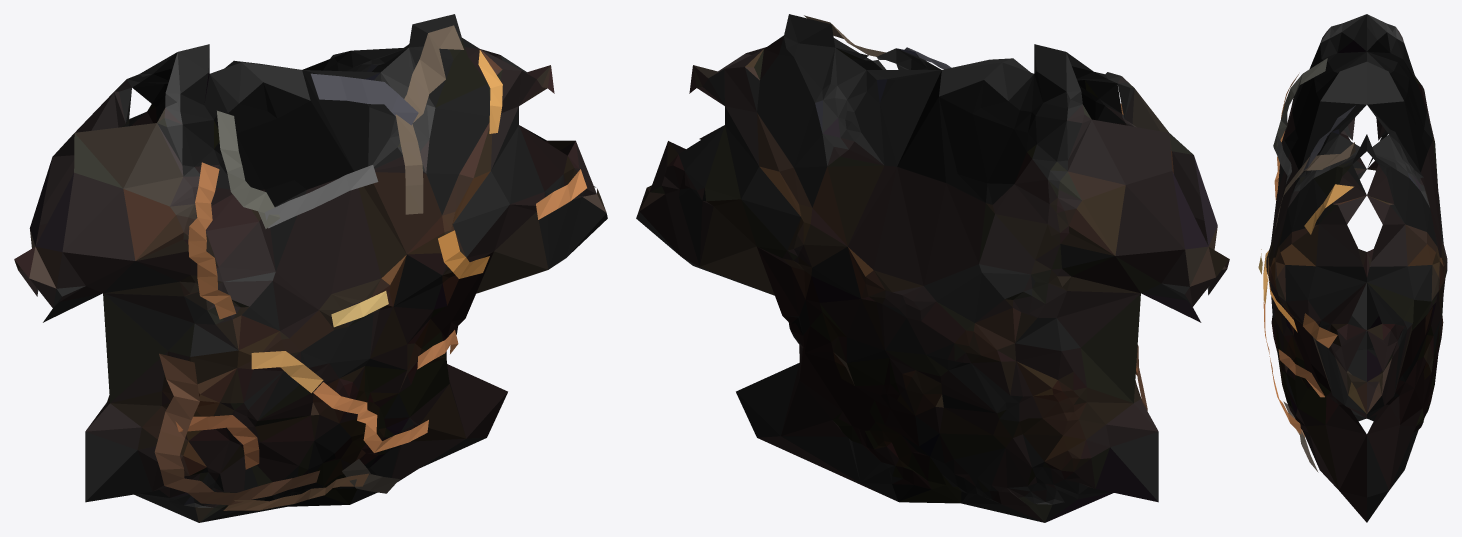
The picture shows the model from 3 angles, left to right: view 1: azimuth 30°, elevation 25°; view 2: azimuth 150°, elevation 25°; view 3: azimuth 270°, elevation 25°; orthographic projection. The views are drawn at different scales.
Parts seen in each view (by area): view 1: object 2, detail; view 2: object 2, detail; view 3: object 2, detail.
Part boxes in pixels (x1,y1,x2,y2): object 2: (14, 14, 607, 522); detail: (154, 25, 586, 510); object 2: (636, 14, 1229, 522); detail: (804, 15, 1147, 410); object 2: (1266, 14, 1447, 522); detail: (1258, 58, 1355, 472).
Size of the model in its own units: 167 by 132 by 55.39.
